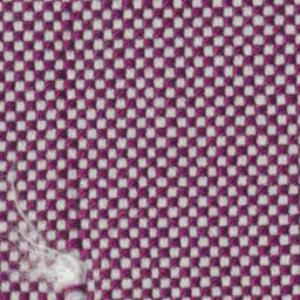fault: (12, 195, 96, 297)
